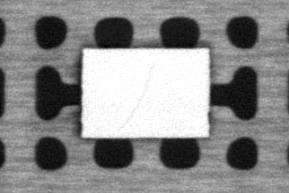DIE_CRACK: (118, 62, 155, 129)
